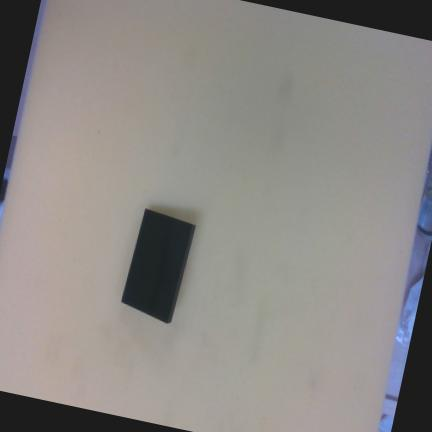tile: (118, 208, 195, 324)
